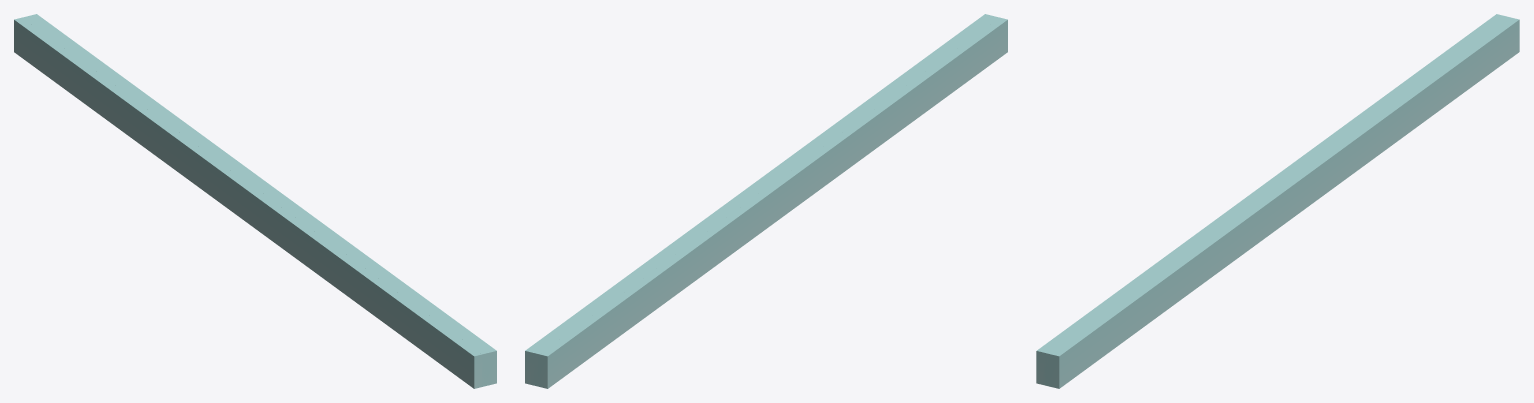
The picture shows the model from 3 angles, left to right: view 1: azimuth 30°, elevation 25°; view 2: azimuth 150°, elevation 25°; view 3: azimuth 330°, elevation 25°; orthographic projection.
Parts seen in each view (by area): view 1: groove.001, groove; view 2: groove.001, groove; view 3: groove, groove.001.
Part boxes in pixels (x1,y1,x2,y2): groove.001: [14, 17, 489, 388]; groove: [22, 14, 496, 386]; groove.001: [532, 17, 1007, 388]; groove: [525, 14, 999, 386]; groove: [1044, 16, 1519, 388]; groove.001: [1036, 14, 1504, 386].
Size of the model in its own units: 8.73 by 11.91 by 305.
